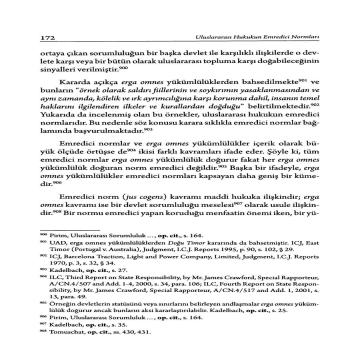footer: (48, 233, 328, 336)
header: (189, 32, 324, 40)
